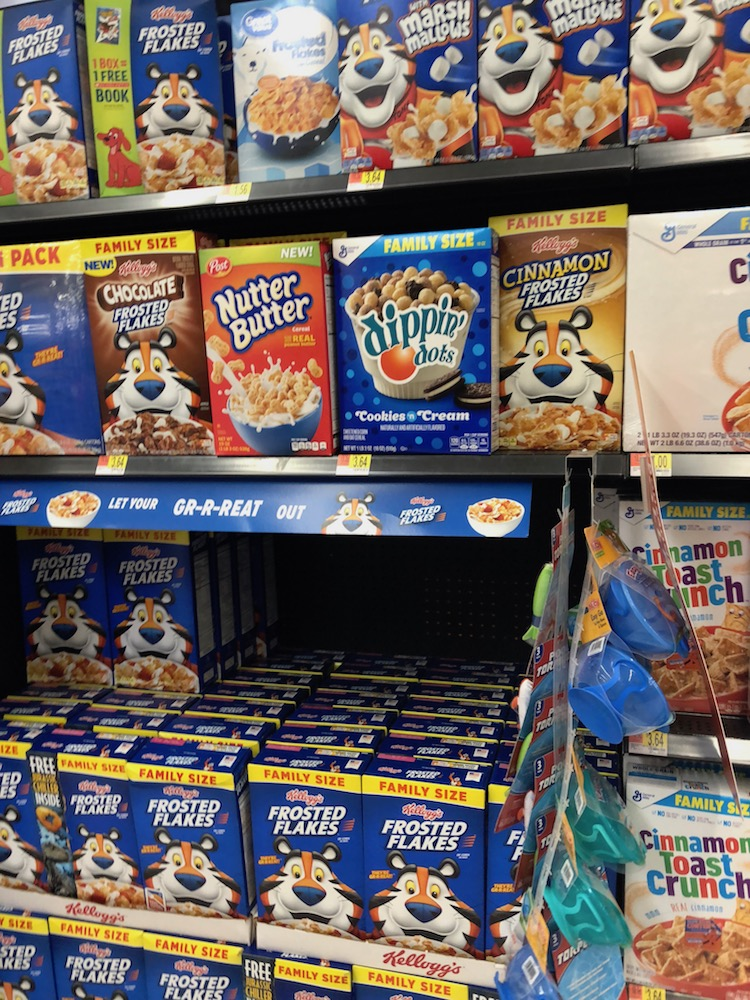Dippin Dots Cookies & Cream -568929378: (323, 268, 503, 448)
Nutter Butter-565717511: (196, 262, 338, 456)
